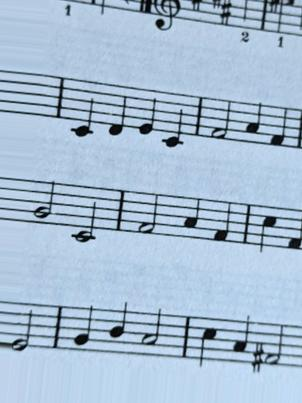note: (66, 72, 100, 141), (159, 88, 189, 153), (70, 302, 97, 360), (208, 193, 234, 252), (104, 78, 129, 139), (195, 312, 220, 372), (256, 196, 280, 255), (135, 84, 160, 139), (230, 310, 251, 371), (107, 301, 129, 357), (181, 191, 203, 246), (268, 101, 290, 155), (241, 97, 262, 151)
